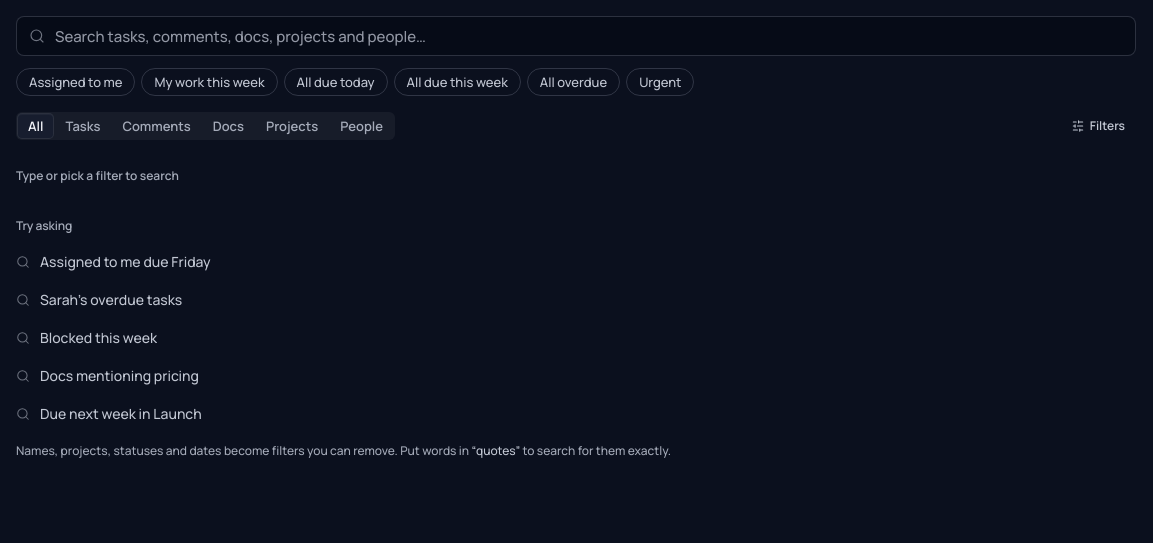
it: re-renders › a parent re-render with the same people, comments and handlers (all built afresh) doesn't search again
The width and height of the screenshot is (1153, 543).
Type "pricing" into the search field labelled "Search tasks" at (593, 36), box left=55, top=17, right=1131, bottom=55
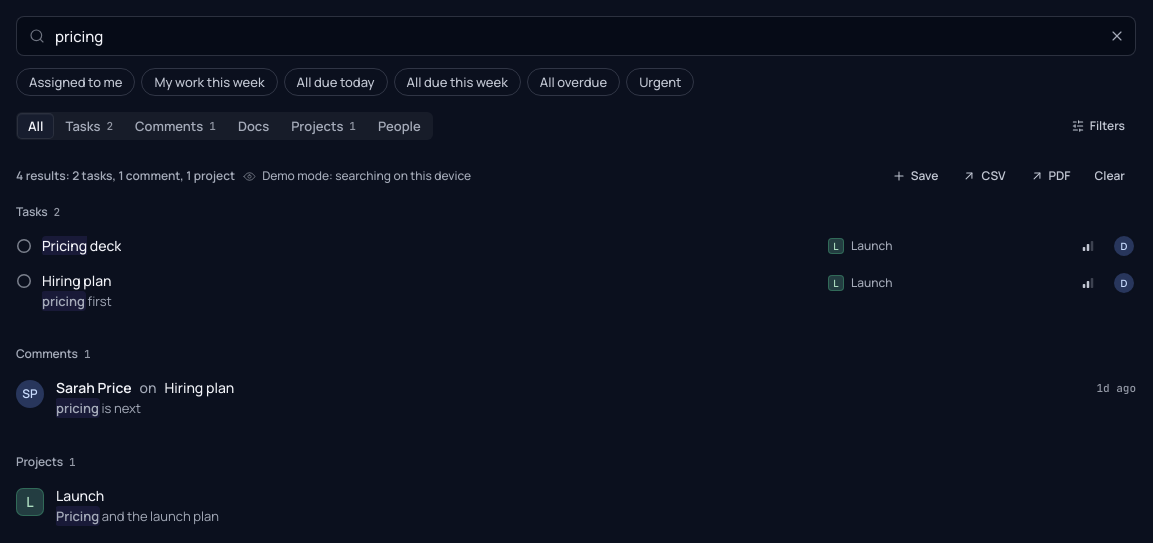
Now the heading "Tasks 2" is shown, box left=16, top=204, right=60, bottom=220
